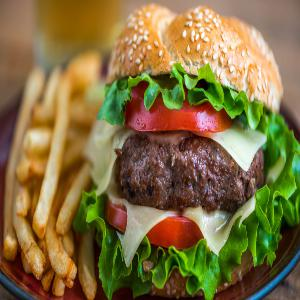cheeseburger_475cal: (100, 5, 289, 300)
fries_350cal: (8, 53, 104, 300)
